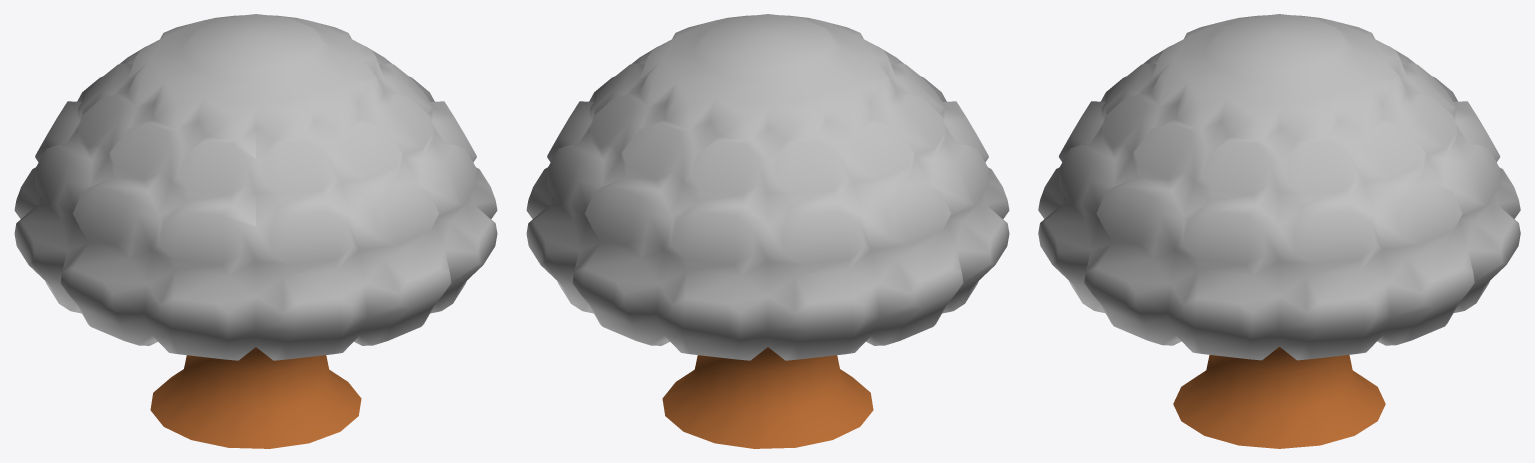
Rendered from SimpleTree.fbx.
The picture shows the model from 3 angles, left to right: view 1: azimuth 30°, elevation 25°; view 2: azimuth 150°, elevation 25°; view 3: azimuth 270°, elevation 25°; orthographic projection.
Parts seen in each view (by area): view 1: SimpleTree_LOD0; view 2: SimpleTree_LOD0; view 3: SimpleTree_LOD0.
Boxes of the visible parts, <box> form: SimpleTree_LOD0: <box>14,14,497,448</box>; SimpleTree_LOD0: <box>526,14,1009,448</box>; SimpleTree_LOD0: <box>1038,14,1520,448</box>.
Size of what is drawn, in the model's own units: 668 by 564 by 668.
